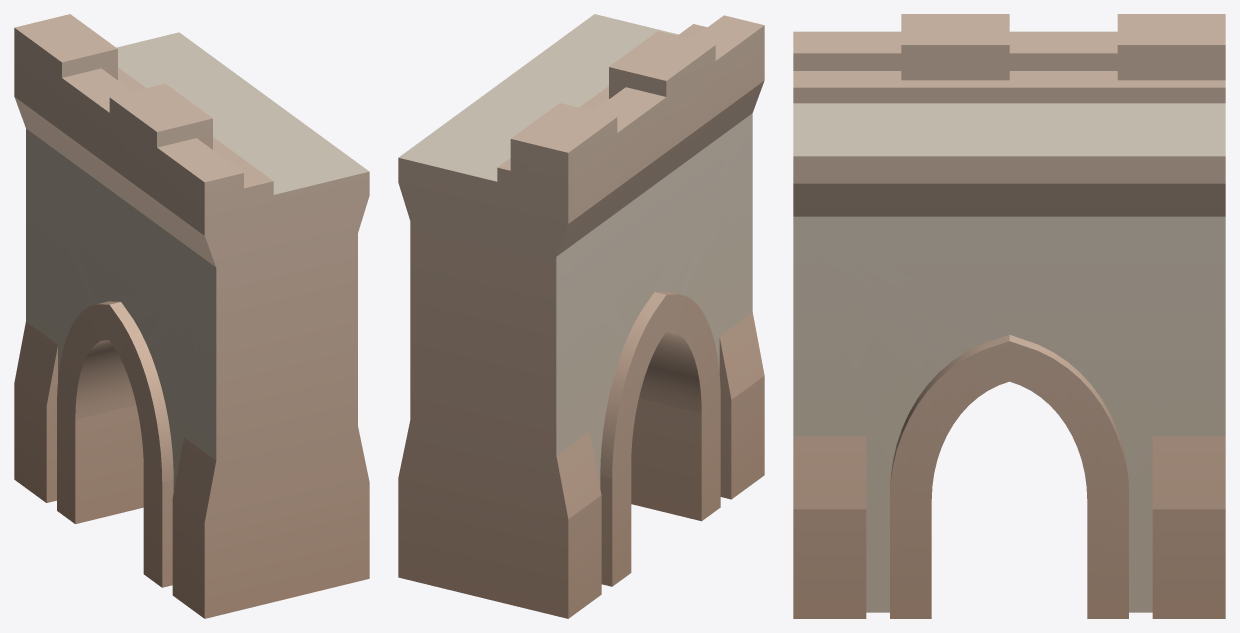
The model's file is wall-doorway.glb.
The picture shows the model from 3 angles, left to right: view 1: azimuth 30°, elevation 25°; view 2: azimuth 150°, elevation 25°; view 3: azimuth 270°, elevation 25°; orthographic projection. The views are drawn at different scales.
Visible parts, largest first — view 1: wall-doorway; view 2: wall-doorway; view 3: wall-doorway.
Boxes of the visible parts, bbox=[...] form: wall-doorway: bbox=[14, 14, 369, 618]; wall-doorway: bbox=[398, 14, 764, 618]; wall-doorway: bbox=[793, 14, 1225, 618].
Size of the model in its own units: 0.5 by 1.31 by 1.
